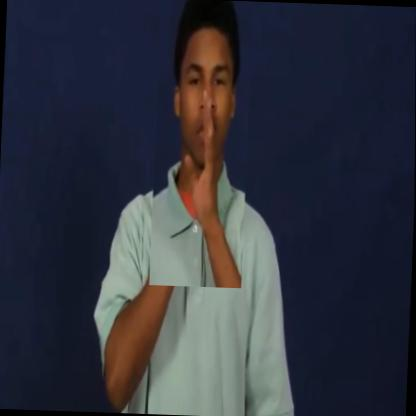Talk: (150, 0, 253, 288)
